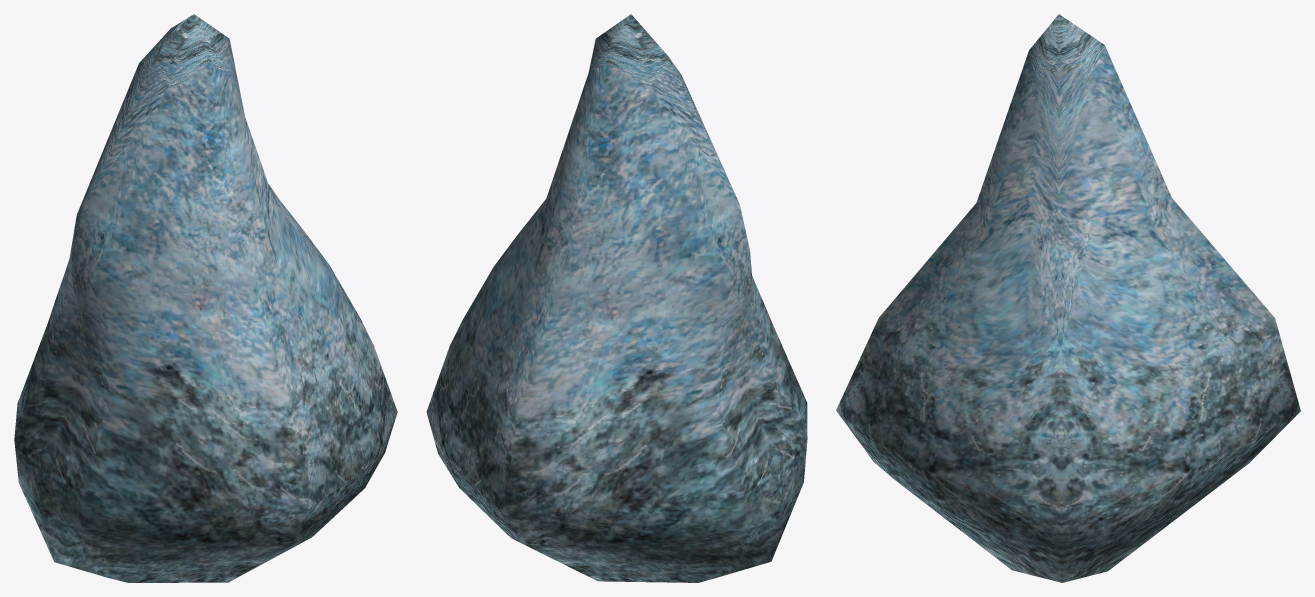
File: thm_all_cave_stalagmite_ice_a2_l0.fbx
3 views of the same model, side by side, from view 1: azimuth 30°, elevation 25°; view 2: azimuth 150°, elevation 25°; view 3: azimuth 270°, elevation 25° (orthographic). The views are drawn at different scales.
Parts seen in each view (by area): view 1: mesh_node; view 2: mesh_node; view 3: mesh_node.
Boxes of the visible parts, x1=… form: mesh_node: x1=14, y1=14, x2=397, y2=582; mesh_node: x1=426, y1=14, x2=807, y2=582; mesh_node: x1=836, y1=14, x2=1300, y2=582.
Bounding box in the file's own units: 0.8506 × 1.33 × 1.04.
